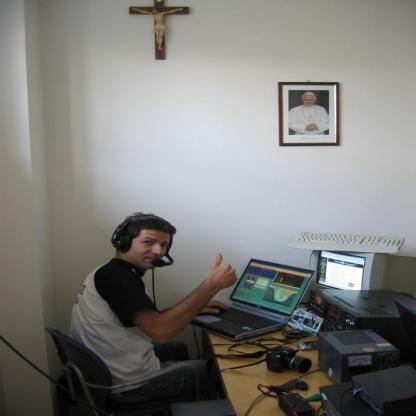board: (202, 267, 315, 346)
